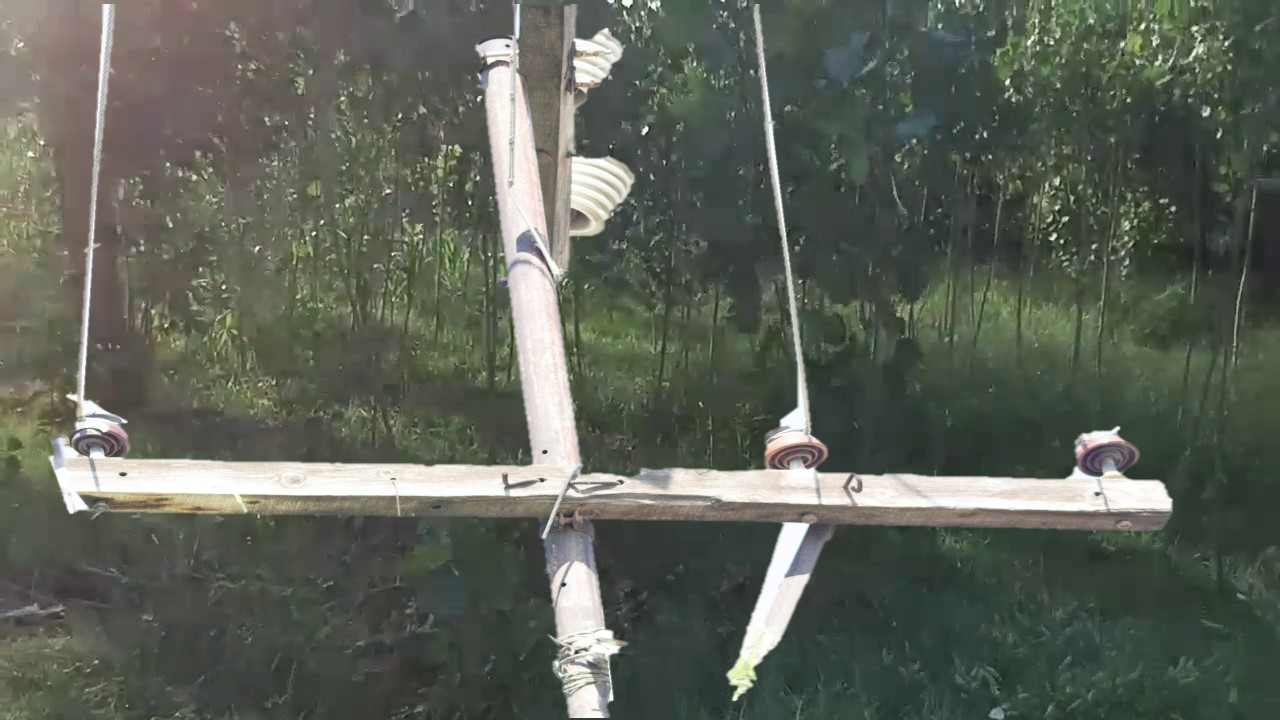defect_pin: (66, 397, 137, 463)
insulator_pin: (1069, 416, 1144, 475), (760, 419, 835, 471)
